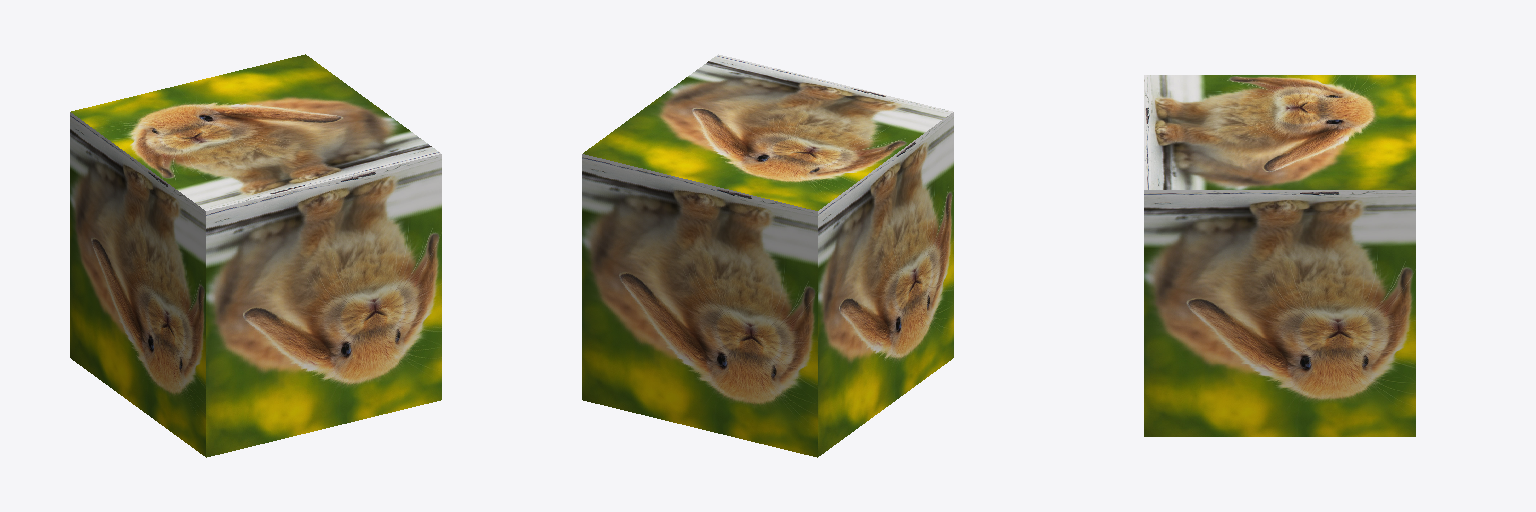
3 views of the same model, side by side, from view 1: azimuth 30°, elevation 25°; view 2: azimuth 150°, elevation 25°; view 3: azimuth 270°, elevation 25° (orthographic).
Parts seen in each view (by area): view 1: cube; view 2: cube; view 3: cube.
Boxes of the visible parts, box(x1,y1,x2,y2) form: cube: box(70, 54, 441, 457); cube: box(582, 54, 953, 457); cube: box(1144, 75, 1415, 436).
Size of the model in its own units: 2 by 2 by 2.
1 materials, 1 textured.